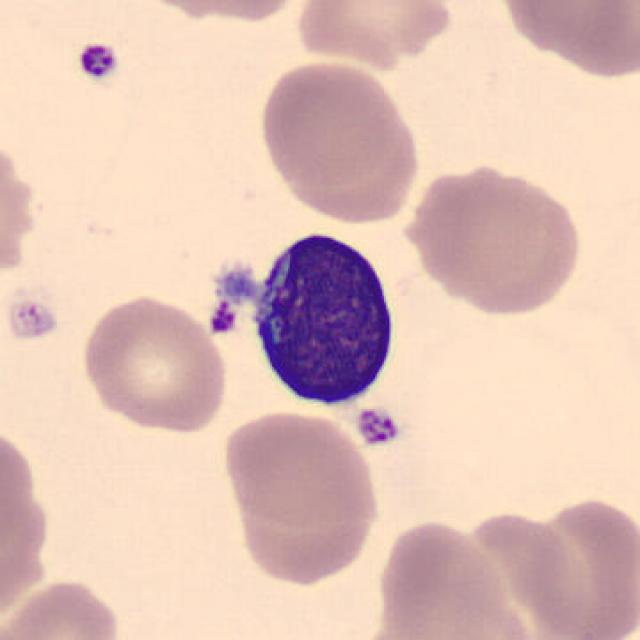Lymphocyte: (213, 219, 414, 416)
Platelets: (0, 288, 66, 348), (73, 39, 123, 84), (356, 404, 404, 449), (204, 300, 240, 338)
RBC: (217, 408, 380, 584), (414, 160, 588, 321), (77, 291, 231, 435), (254, 56, 407, 198), (446, 508, 589, 640), (521, 492, 638, 640), (372, 517, 512, 638), (490, 0, 640, 79), (293, 0, 459, 71), (0, 415, 53, 622), (0, 575, 126, 640), (350, 606, 535, 640), (124, 0, 318, 26)
